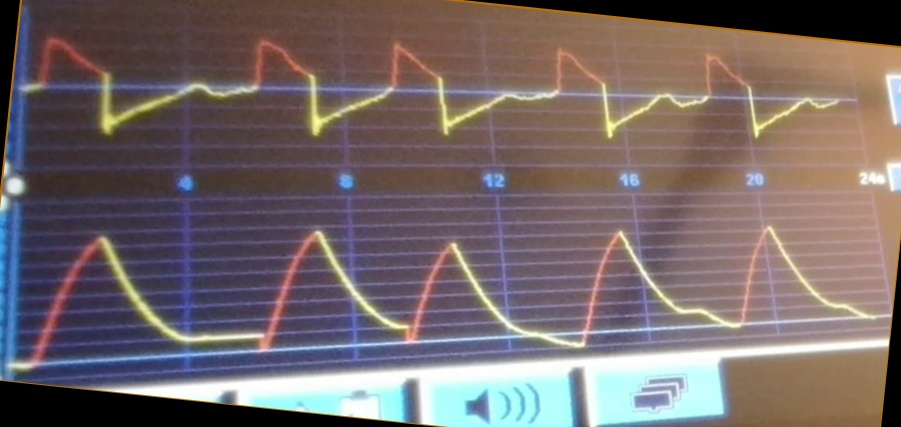Ineffective_effort Flow: (28, 33, 842, 148)
Ineffective_effort Volume: (17, 222, 873, 356)
